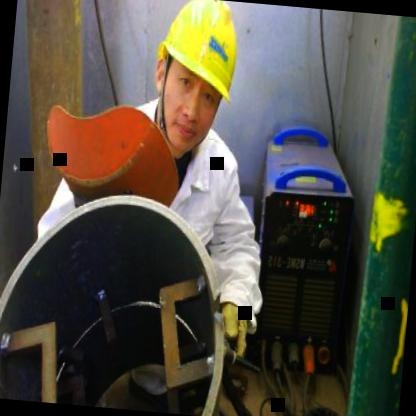helmet: (138, 0, 254, 166)
